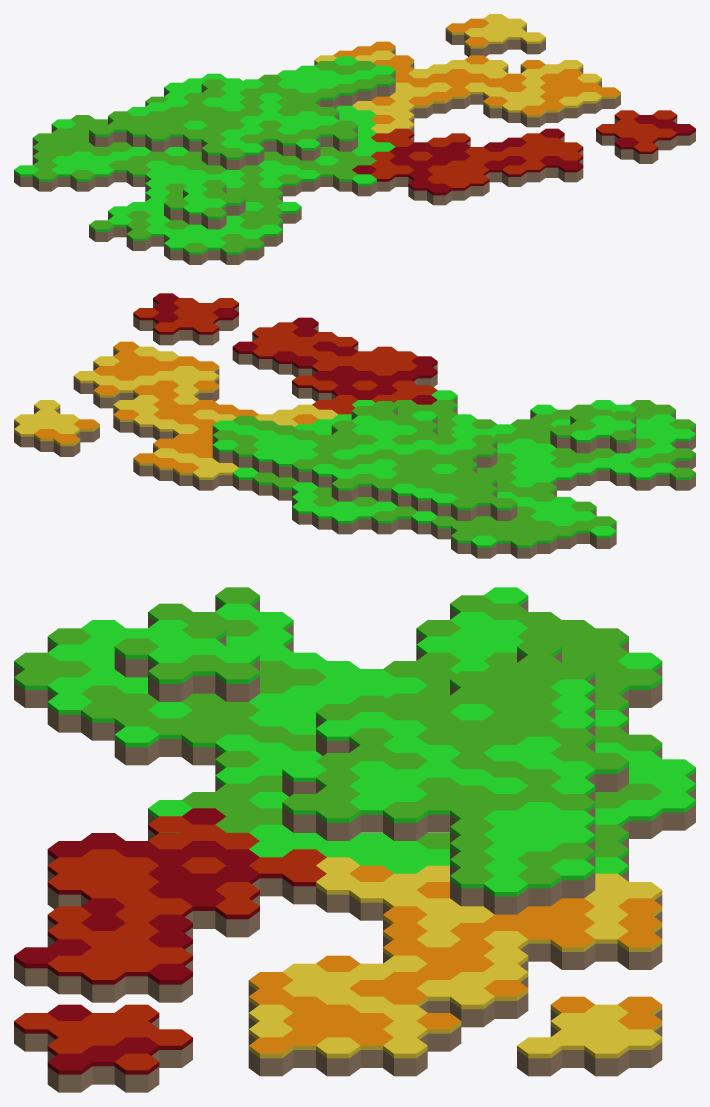
Rendered from Global Map.fbx.
3 renders of one model, top to bottom at view 1: azimuth 30°, elevation 25°; view 2: azimuth 150°, elevation 25°; view 3: azimuth 270°, elevation 25°, orthographic. The views are drawn at different scales.
Parts seen in each view (by area): view 1: Circle; view 2: Circle; view 3: Circle.
Boxes of the visible parts, bbox=[...] form: Circle: bbox=[14, 14, 695, 264]; Circle: bbox=[14, 293, 695, 558]; Circle: bbox=[14, 587, 695, 1092].
Size of the model in its own units: 460 by 20 by 275.
